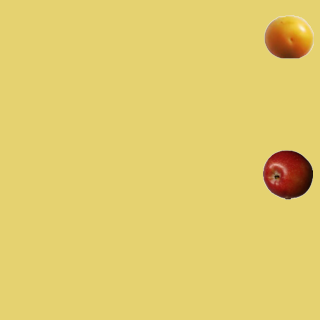Apple Braeburn: (262, 149, 312, 199)
Cherry Wax Yellow: (263, 11, 313, 61)
